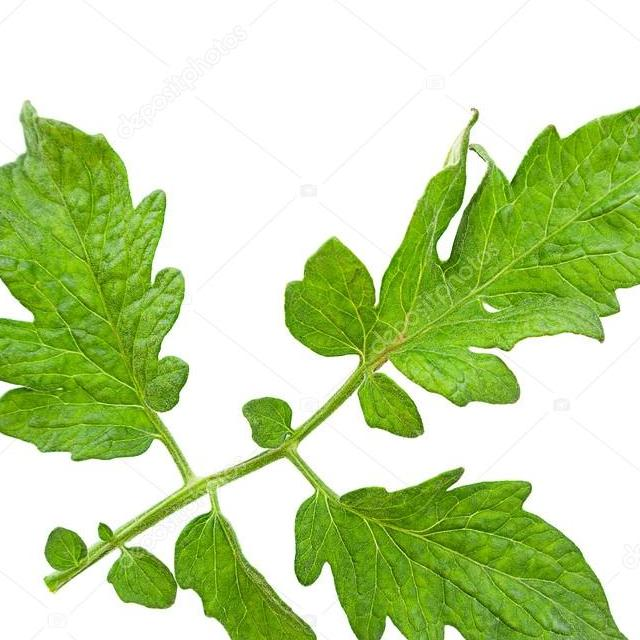Tomato leaf: (250, 50, 640, 427), (0, 100, 209, 457), (291, 480, 640, 640), (169, 492, 332, 640)
